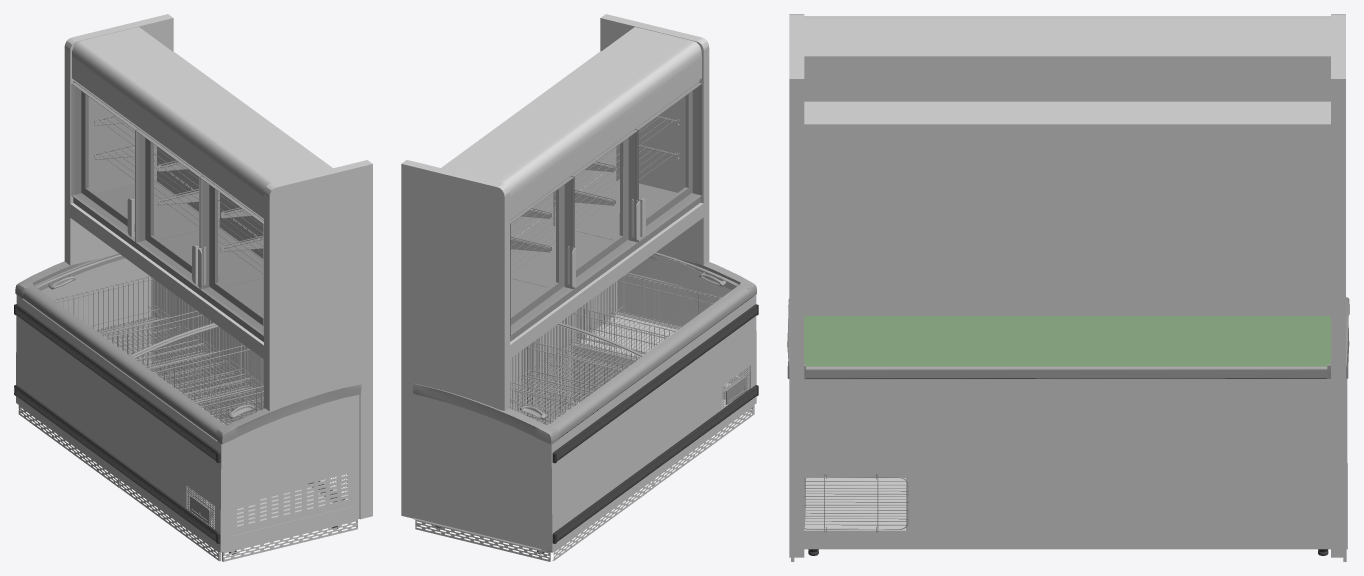
File: Fricon_Combi_Final.fbx
3 renders of one model, left to right at view 1: azimuth 30°, elevation 25°; view 2: azimuth 150°, elevation 25°; view 3: azimuth 270°, elevation 25°, orthographic. The views are drawn at different scales.
Visible parts, largest first — view 1: SMR_LSL_Structure, COMBI_UpStructure1, COMBI_UpStructure, SMR_LSL_R_Door, SMR_LSLL_Door, COMBI_Up_Door2, COMBI_Up_Door, COMBI_Up_Door1, COMBI_WindowStruct, SMR_LSL_LeftGrid2, SMR_LSL_BackBorder1, SMR_LSL_SideBorder (+23 smaller); view 2: SMR_LSL_Structure, COMBI_UpStructure1, COMBI_UpStructure, SMR_LSLL_Door, SMR_LSL_R_Door, COMBI_Up_Door2, COMBI_Up_Door1, COMBI_Up_Door, SMR_LSL_InsidePlatform1, COMBI_WindowStruct, SMR_LSL_BackBorder1, SMR_LSL_SideBorder (+22 smaller); view 3: COMBI_UpStructure1, SMR_LSL_Structure, COMBI_UpStructure, COMBI_DiagonalBack, SMR_LSL_BackBorder2, SMR_LSL_BackGrid1.
Boxes of the visible parts, <box> form: SMR_LSL_Structure: <box>16,258,359,552</box>; COMBI_UpStructure1: <box>64,14,372,519</box>; COMBI_UpStructure: <box>72,27,331,218</box>; SMR_LSL_R_Door: <box>36,254,218,358</box>; SMR_LSLL_Door: <box>130,323,264,425</box>; COMBI_Up_Door2: <box>71,83,138,242</box>; COMBI_Up_Door: <box>198,176,263,336</box>; COMBI_Up_Door1: <box>135,129,202,289</box>; COMBI_WindowStruct: <box>73,80,263,341</box>; SMR_LSL_LeftGrid2: <box>231,465,354,535</box>; SMR_LSL_BackBorder1: <box>22,285,224,441</box>; SMR_LSL_SideBorder: <box>15,253,361,444</box>; SMR_LSL_Structure: <box>413,255,756,552</box>; COMBI_UpStructure1: <box>401,14,709,518</box>; COMBI_UpStructure: <box>442,27,701,218</box>; SMR_LSLL_Door: <box>557,252,739,356</box>; SMR_LSL_R_Door: <box>510,325,641,424</box>; COMBI_Up_Door2: <box>510,176,575,335</box>; COMBI_Up_Door1: <box>571,129,640,288</box>; COMBI_Up_Door: <box>635,82,701,241</box>; SMR_LSL_InsidePlatform1: <box>572,273,701,401</box>; COMBI_WindowStruct: <box>510,80,700,341</box>; SMR_LSL_BackBorder1: <box>549,284,752,439</box>; SMR_LSL_SideBorder: <box>413,253,756,444</box>; COMBI_UpStructure1: <box>789,14,1345,557</box>; SMR_LSL_Structure: <box>804,379,1347,549</box>; COMBI_UpStructure: <box>804,16,1330,114</box>; COMBI_DiagonalBack: <box>804,316,1330,366</box>; SMR_LSL_BackBorder2: <box>805,366,1327,379</box>; SMR_LSL_BackGrid1: <box>804,473,908,532</box>.
Size of the model in its own units: 95.8 by 216 by 222.
